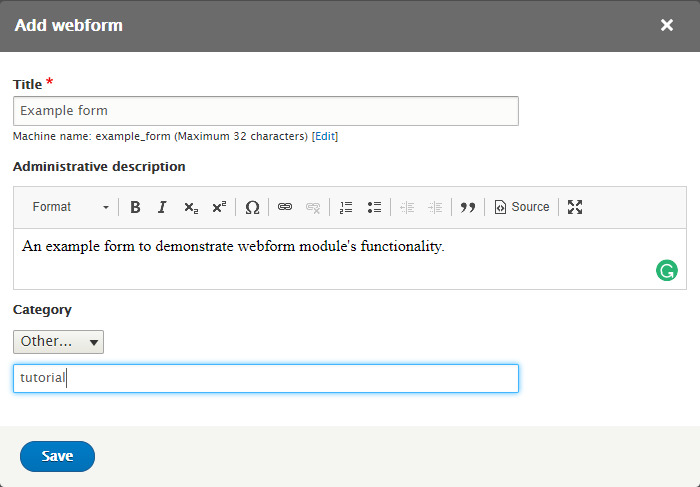_form_: (4, 71, 526, 487)
button: (20, 440, 95, 474)
field: (12, 94, 520, 128), (11, 363, 521, 396), (11, 329, 106, 356)
field_with_label: (10, 77, 523, 130)
